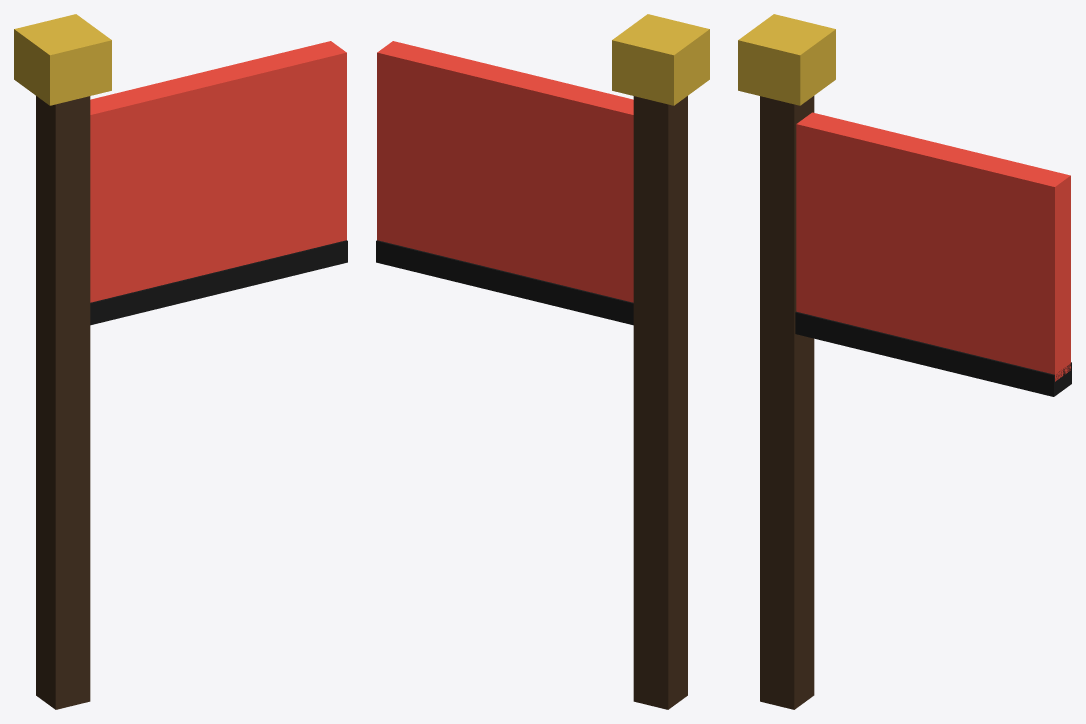
The model's file is flag_0.glb.
The picture shows the model from 3 angles, left to right: view 1: azimuth 30°, elevation 25°; view 2: azimuth 150°, elevation 25°; view 3: azimuth 330°, elevation 25°; orthographic projection.
Size of the model in its own units: 0.89 by 1.84 by 0.18.
1 material, 1 textured.
